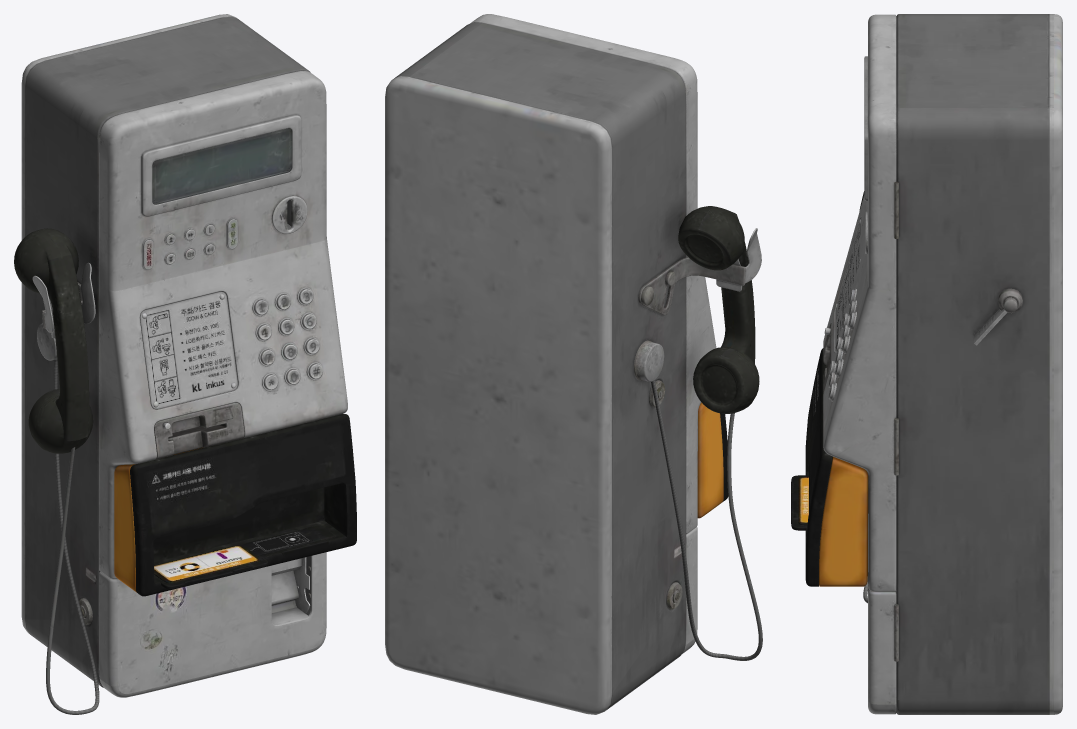
The model's file is ph-payphone.glb.
The picture shows the model from 3 angles, left to right: view 1: azimuth 30°, elevation 25°; view 2: azimuth 150°, elevation 25°; view 3: azimuth 270°, elevation 25°; orthographic projection. The views are drawn at different scales.
Visible parts, largest first — view 1: korean_public_payphone_01; view 2: korean_public_payphone_01; view 3: korean_public_payphone_01.
Part boxes in pixels (x1=…): korean_public_payphone_01: x1=14, y1=14, x2=356, y2=714; korean_public_payphone_01: x1=385, y1=14, x2=762, y2=714; korean_public_payphone_01: x1=791, y1=14, x2=1062, y2=714.
Size of the model in its own units: 0.4005 by 0.7397 by 0.3012.
Materials: 1 (1 with a texture image).
